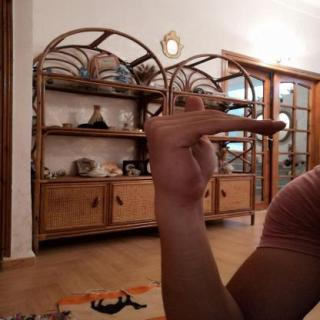KHAA: (125, 88, 304, 209)
